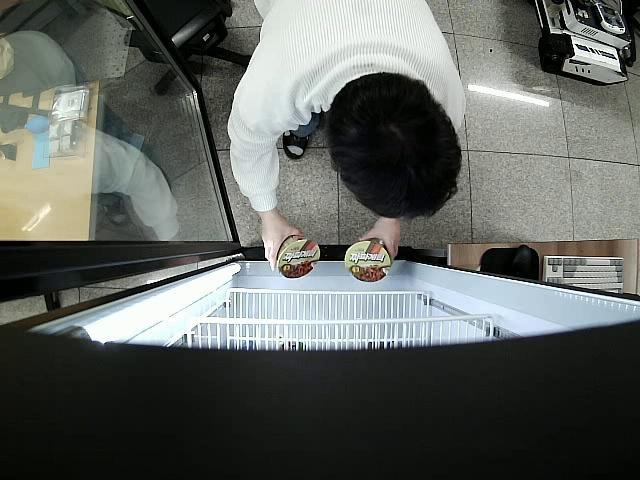03_chapagetti_L: (344, 240, 392, 284), (275, 236, 320, 279)
